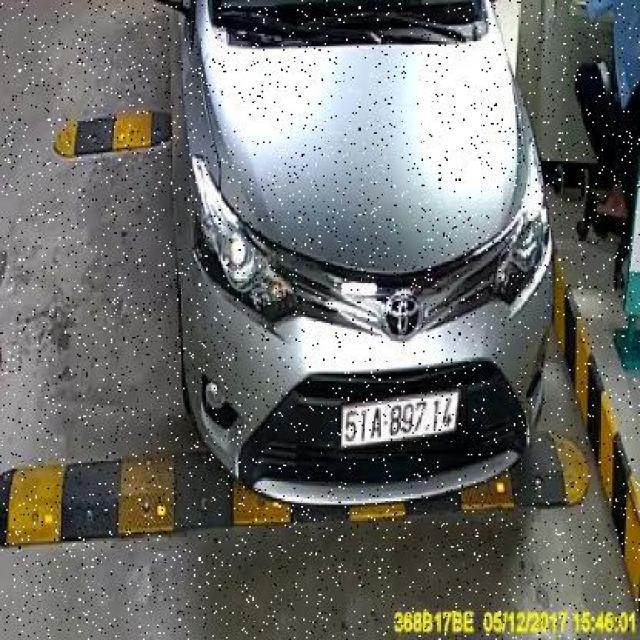number_plate: (338, 384, 468, 454)
